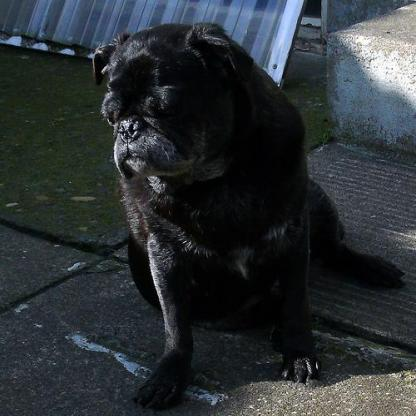pug: (89, 19, 404, 408)
